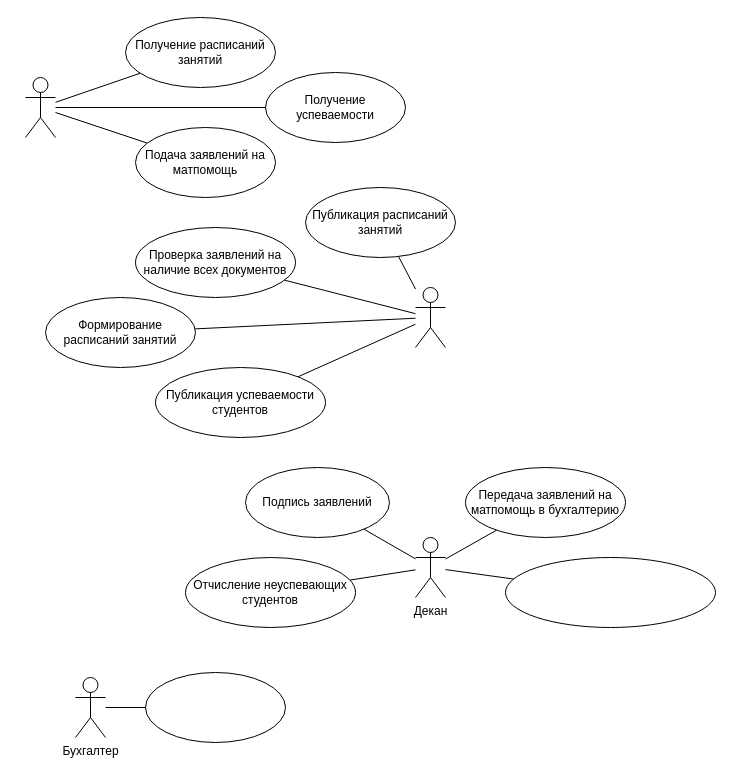
The diagram is 733 pixels wide and 776 high, and some of its shapes have lost their labels. The shapes that lost their labels are listed below. From the top down, each one's centre as x and y in pixels, then its label:
At [40,107]: "Студент".
At [430,317]: "Секретарь".
At [610,592]: "Составление сводной ведомости об успеваемости студентов".
At [215,707]: "Перечисление матпомощи по заявлениям".
